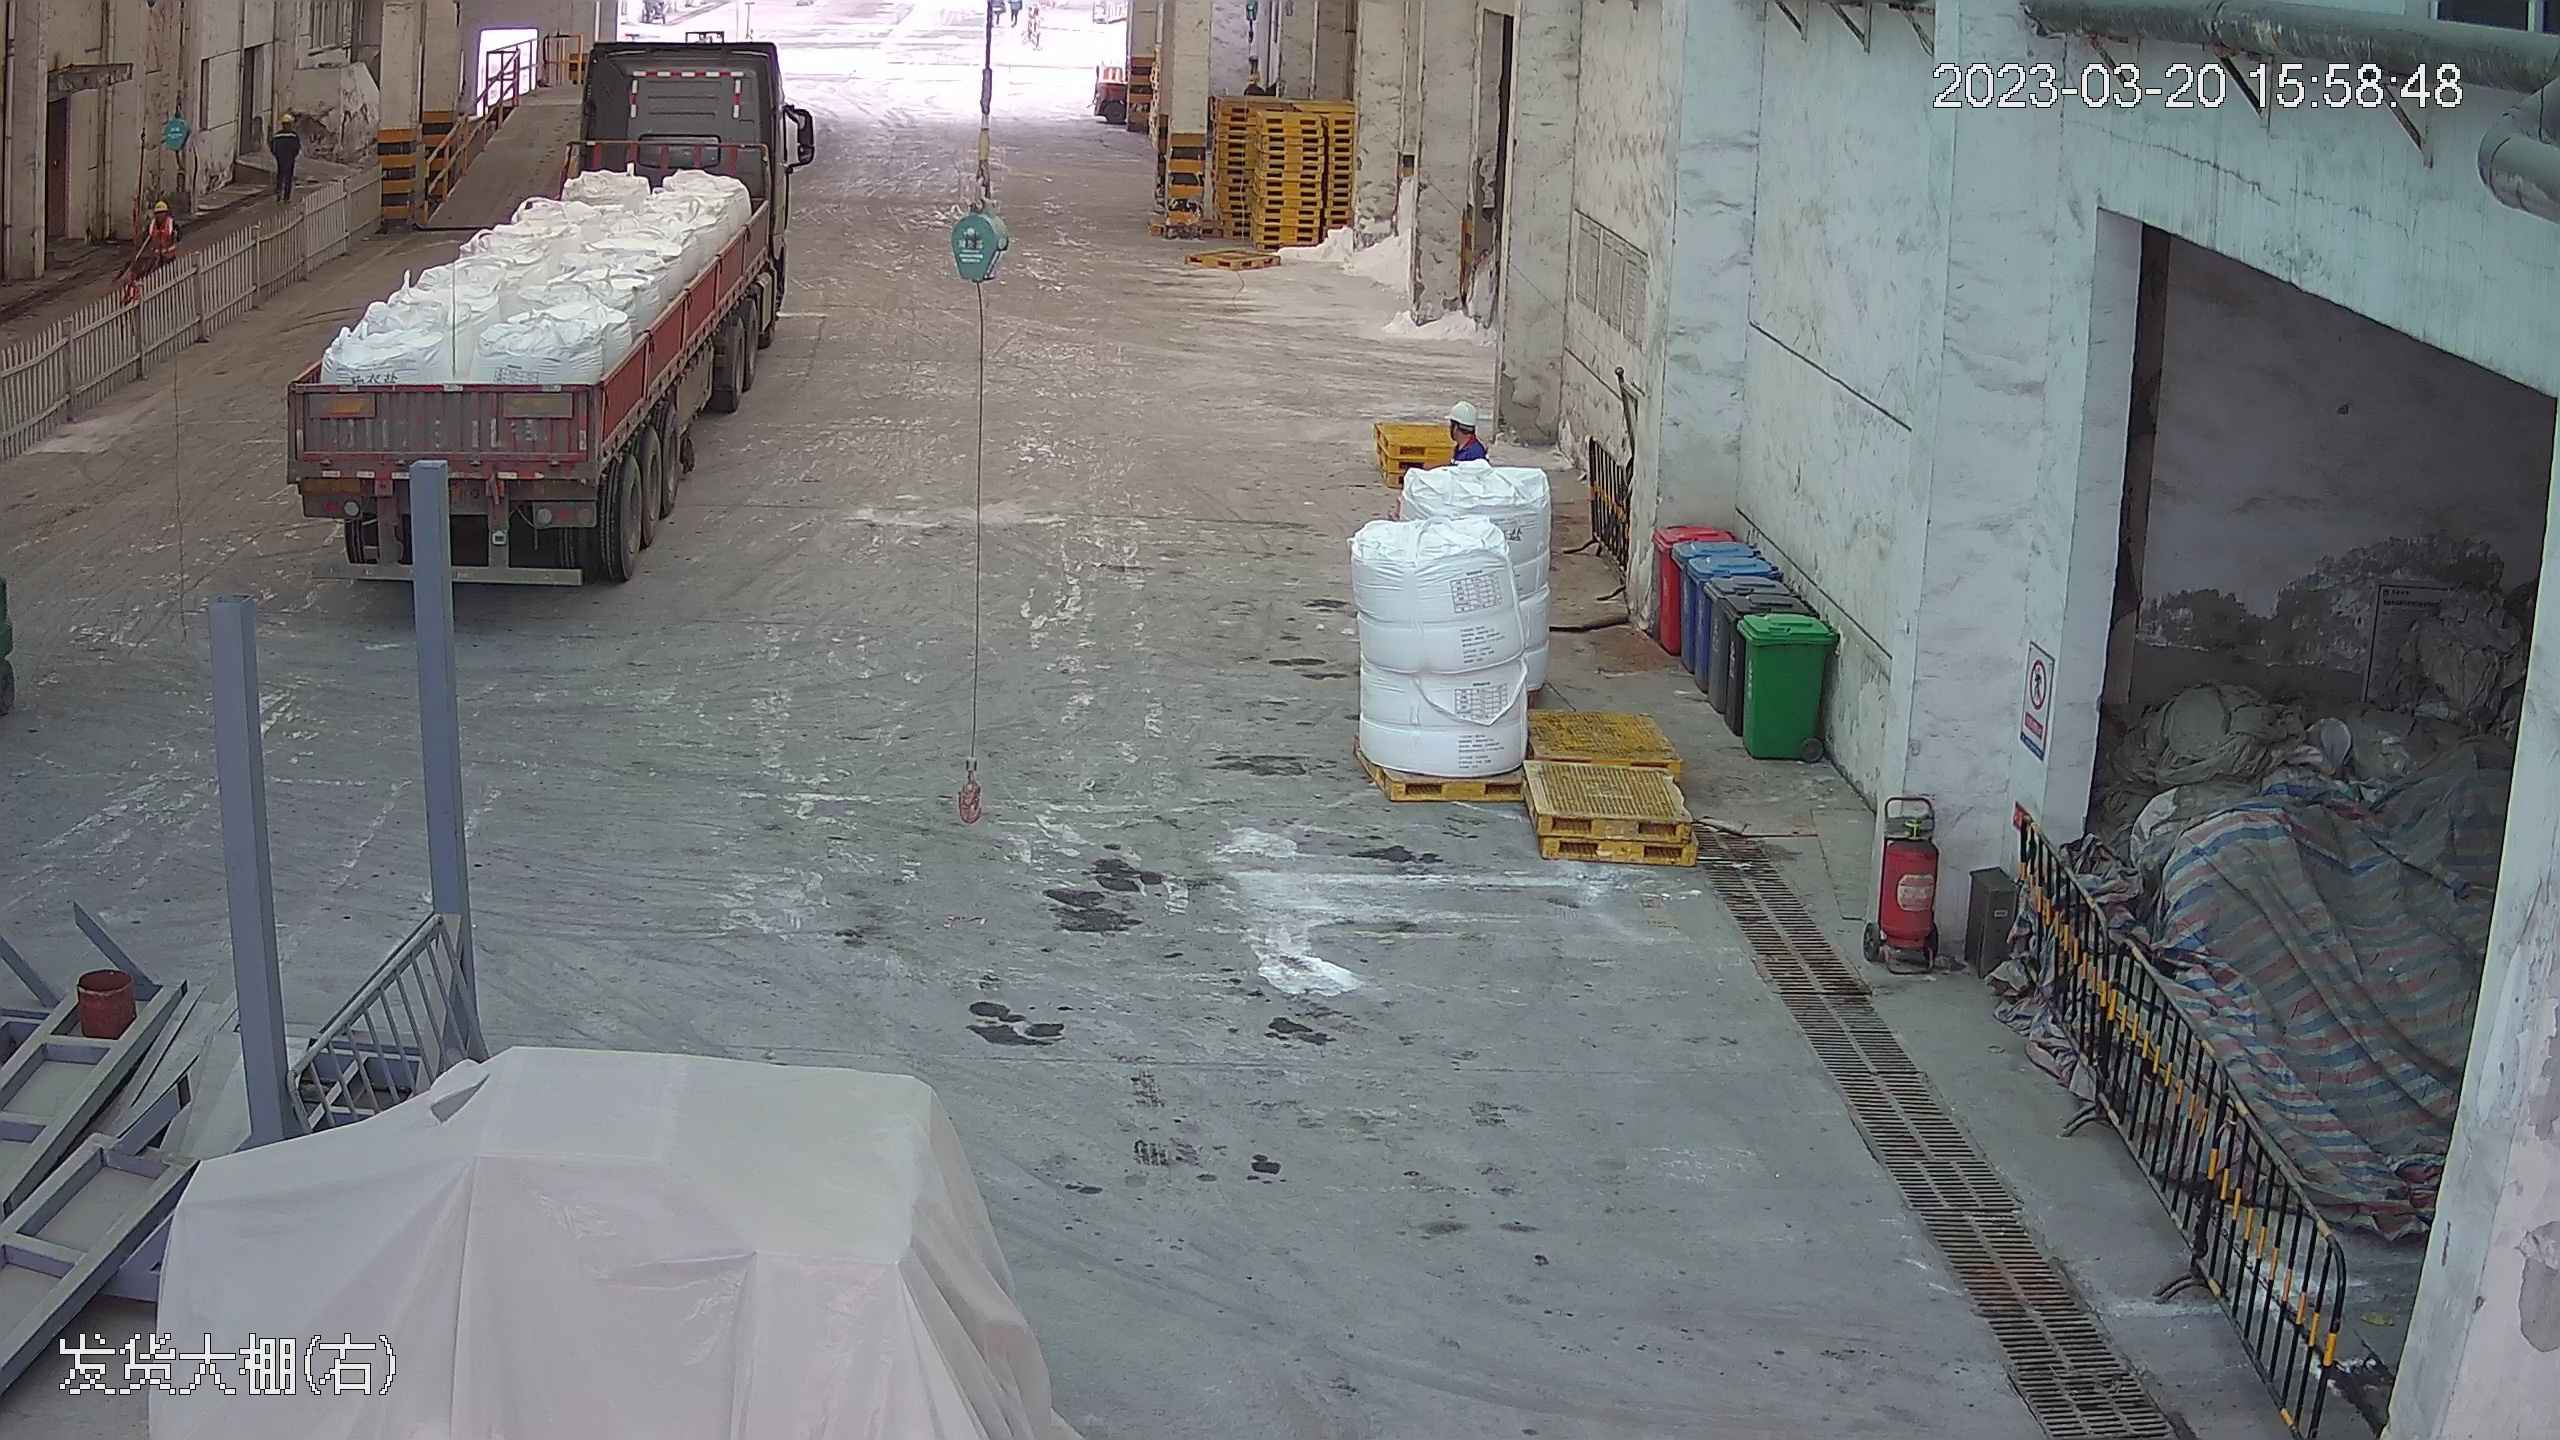head: (148, 197, 179, 235), (272, 112, 303, 147)
helmet: (1446, 401, 1487, 430), (152, 200, 169, 213), (280, 113, 295, 124)
people: (137, 194, 185, 277), (269, 112, 305, 208)
truck: (259, 15, 796, 586)
